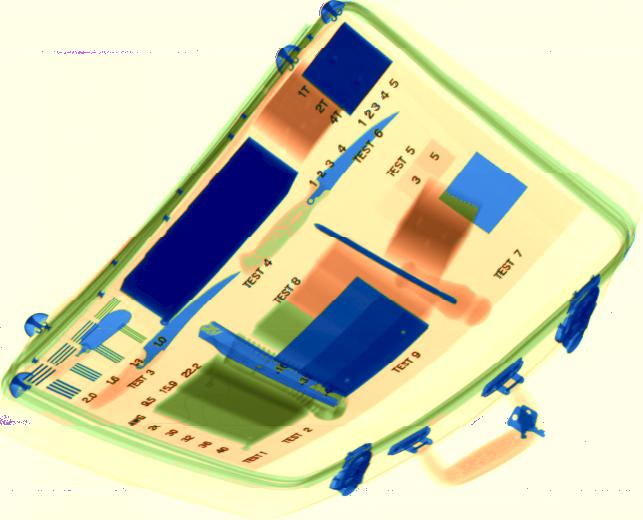Knife: (239, 110, 401, 270), (132, 271, 240, 379), (66, 303, 131, 367)
